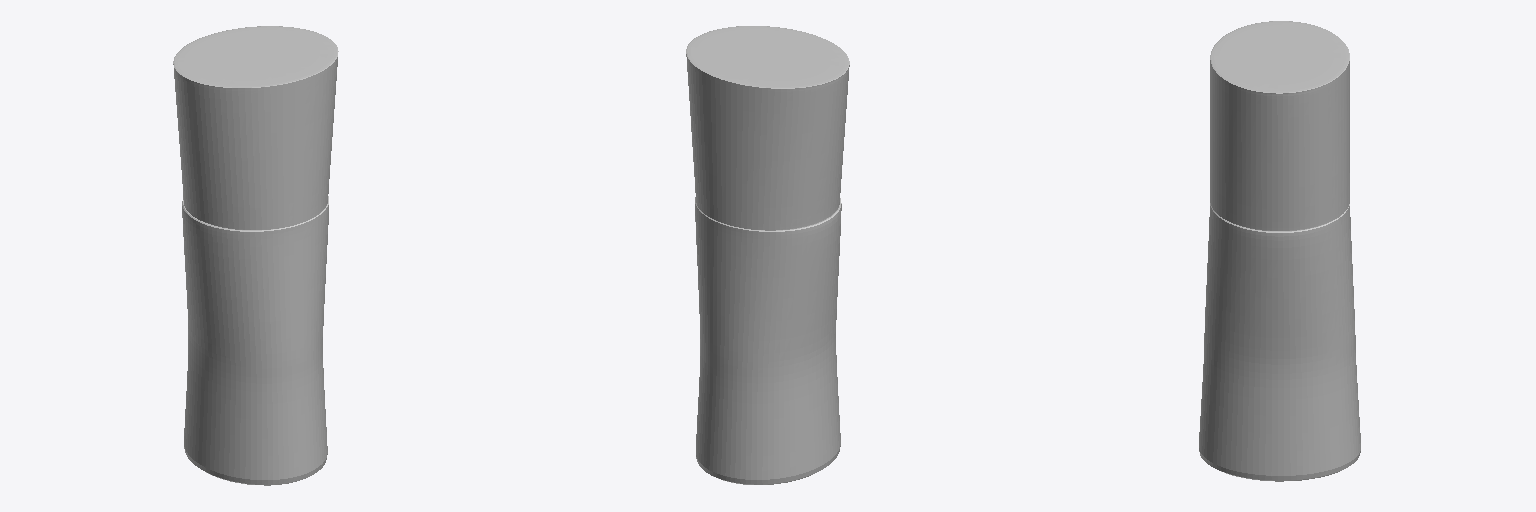
Rendered from Cosmetico.obj.
3 renders of one model, left to right at view 1: azimuth 30°, elevation 25°; view 2: azimuth 150°, elevation 25°; view 3: azimuth 270°, elevation 25°, orthographic.
Parts seen in each view (by area): view 1: Armani:ARMANI_SPORT; view 2: Armani:ARMANI_SPORT; view 3: Armani:ARMANI_SPORT.
Boxes of the visible parts, <box> form: Armani:ARMANI_SPORT: <box>173,26,338,485</box>; Armani:ARMANI_SPORT: <box>686,26,849,484</box>; Armani:ARMANI_SPORT: <box>1199,21,1360,481</box>.
Bounding box in the file's own units: 0.1362 × 0.3485 × 0.1289.